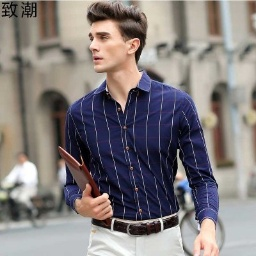face: (83, 1, 152, 76)
